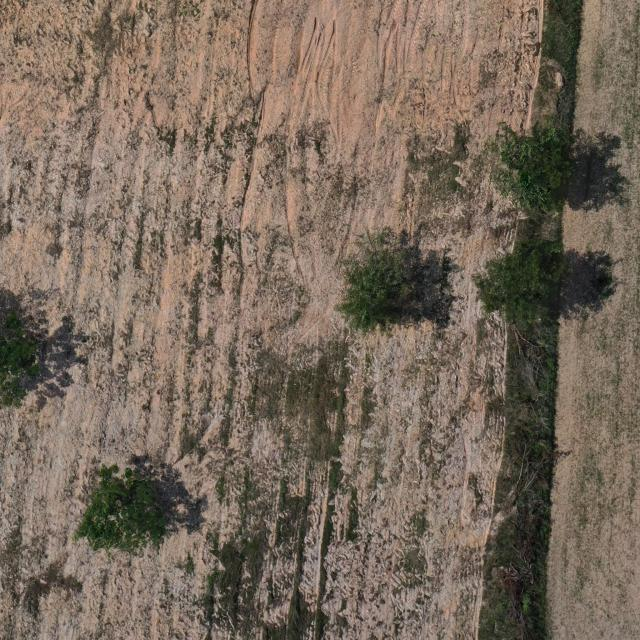Tree: (332, 223, 422, 339), (72, 459, 177, 557), (488, 123, 586, 222), (471, 238, 572, 324), (0, 309, 46, 410)
